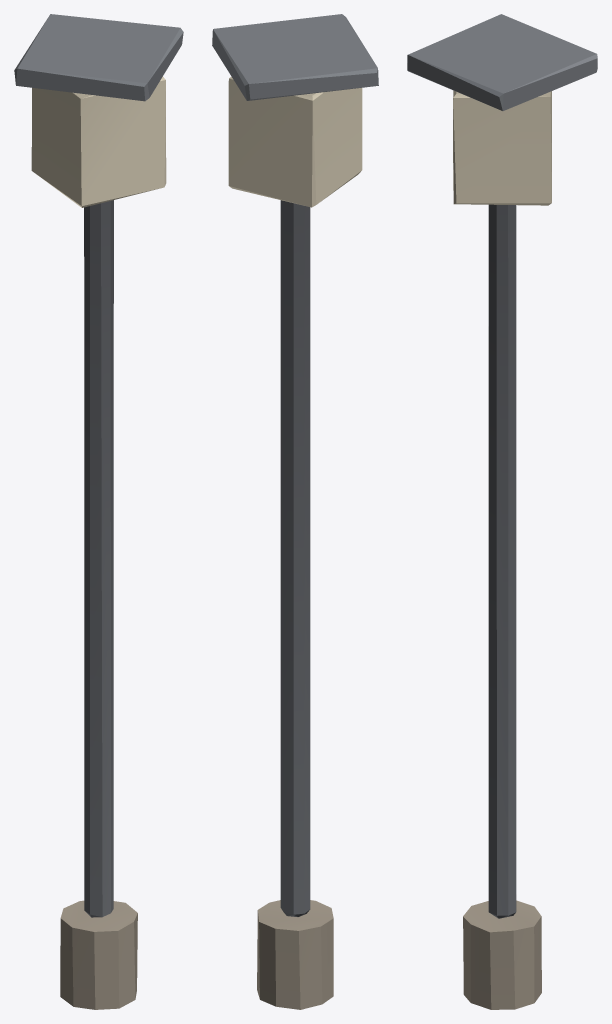
Rendered from lamp_waterfront_low.glb.
The picture shows the model from 3 angles, left to right: view 1: azimuth 30°, elevation 25°; view 2: azimuth 150°, elevation 25°; view 3: azimuth 270°, elevation 25°; orthographic projection.
Size of the model in its own units: 0.8507 by 4.62 by 0.8486.
